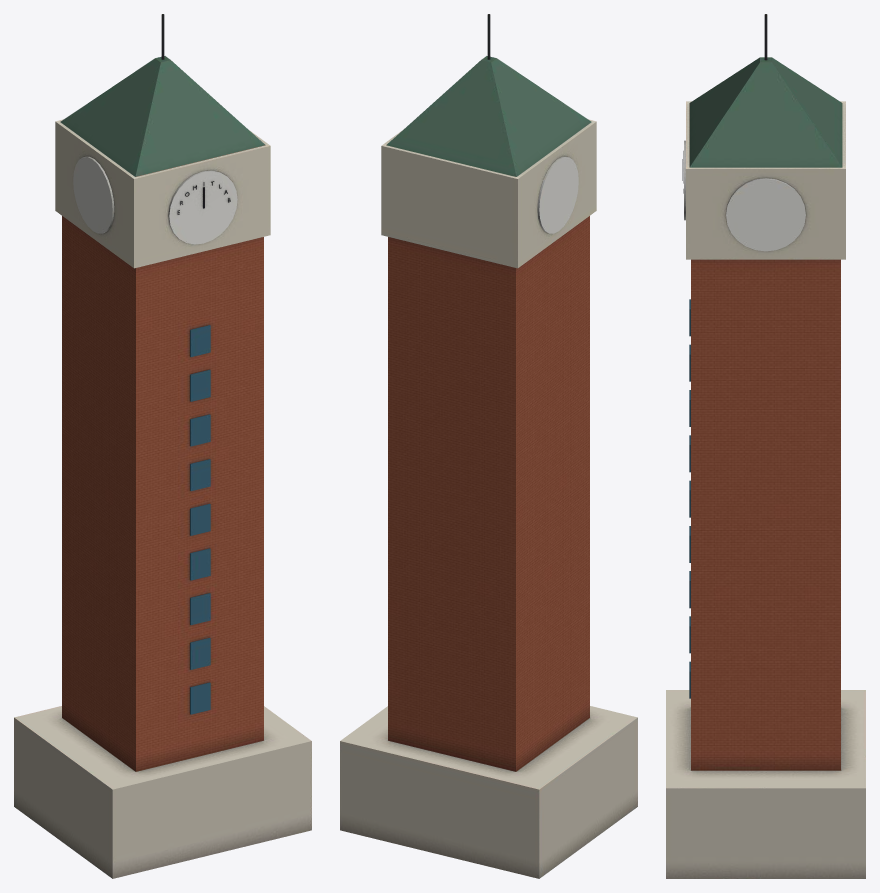
Rendered from torre_reloj_bal.glb.
The picture shows the model from 3 angles, left to right: view 1: azimuth 30°, elevation 25°; view 2: azimuth 150°, elevation 25°; view 3: azimuth 270°, elevation 25°; orthographic projection.
Parts seen in each view (by area): view 1: torre_reloj_bal; view 2: torre_reloj_bal; view 3: torre_reloj_bal.
Part boxes in pixels (x1,y1,x2,y2): torre_reloj_bal: [14, 14, 311, 878]; torre_reloj_bal: [340, 14, 637, 878]; torre_reloj_bal: [666, 14, 865, 878].
Size of the model in its own units: 14 by 54 by 12.
Materials: 1 (1 with a texture image).
